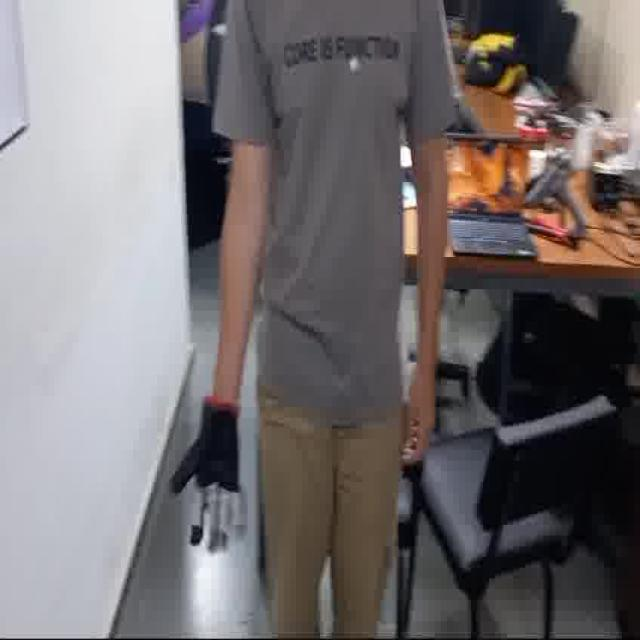Gloves: (170, 396, 256, 562)
